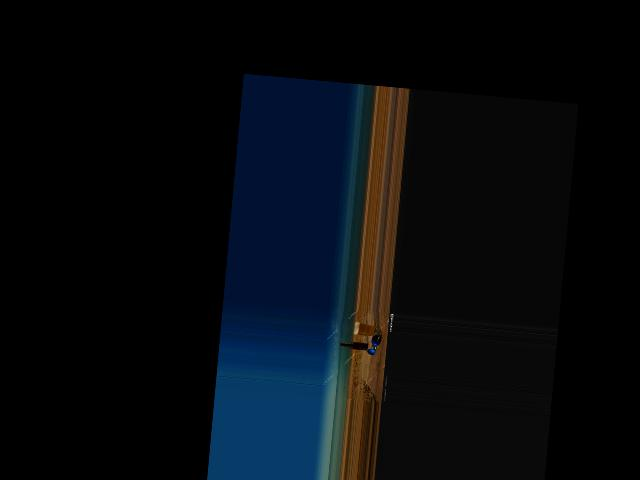beer: (339, 341, 368, 350)
